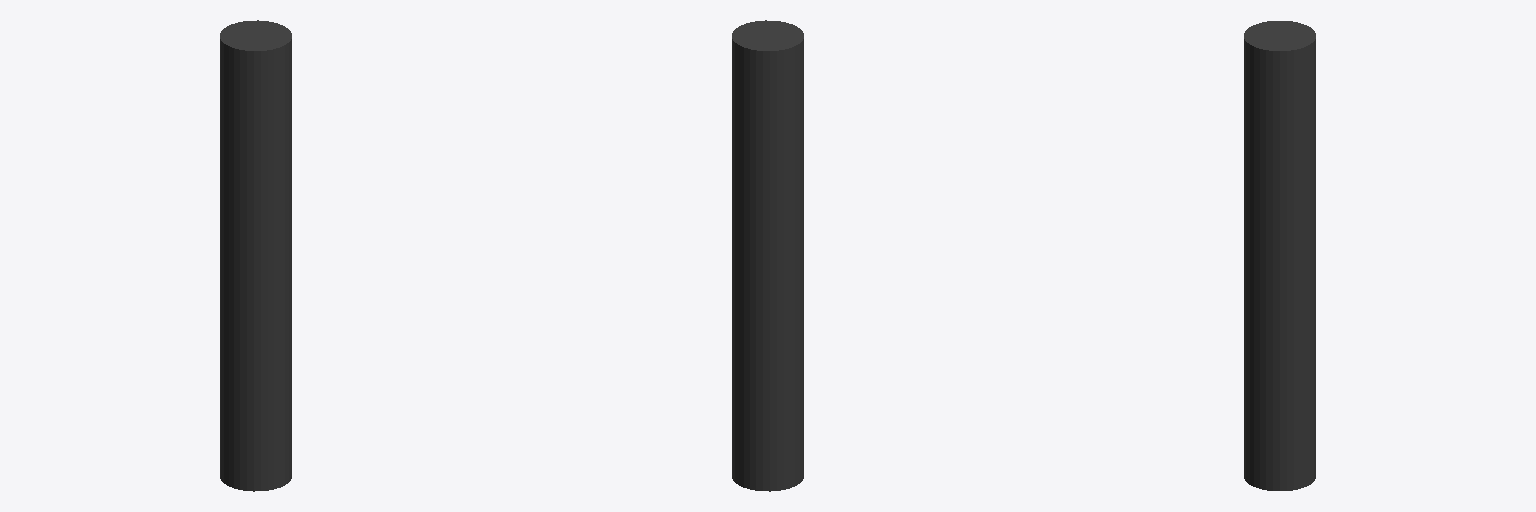
URDF robot description (box):
<?xml version='1.0' encoding='UTF-8'?>
<robot name="box">
  <link name="base_link">
    <inertial>
      <origin xyz="0.0 0.0 0.0" rpy="0.0 -0.0 0.0"/>
      <mass value="1.0"/>
      <inertia ixx="1.0" ixy="0.0" ixz="0.0" iyy="1.0" iyz="0.0" izz="1.0"/>
    </inertial>
    <visual name="base_link_visual">
      <geometry>
        <cylinder radius="0.15" length="2.0"/>
      </geometry>
      <material name="base_link_color">
        <color rgba="0.3 0.3 0.3 1"/>
      </material>
      <origin xyz="0 0 0" rpy="0 0 0"/>
    </visual>
    <collision name="base_link_collision">
      <geometry>
        <cylinder radius="0.15" length="2.0"/>
      </geometry>
      <origin xyz="0 0 0" rpy="0 0 0"/>
    </collision>
  </link>
</robot>

--- Render facts (derived) ---
The picture shows the robot from 3 angles, left to right: view 1: azimuth 30°, elevation 25°; view 2: azimuth 150°, elevation 25°; view 3: azimuth 270°, elevation 25°; orthographic projection.
Model box with 1 links and 0 joints (none), rooted at base_link, posed all joints at 0.
Visible links, largest first — view 1: base_link; view 2: base_link; view 3: base_link.
Boxes of the visible links, box(x1,y1,x2,y2) form: base_link: box(220, 20, 291, 491); base_link: box(732, 20, 803, 491); base_link: box(1244, 21, 1315, 490).
Size in the robot's own frame: 0.3 by 0.3 by 2 metres.
Geometry: primitives only (box / cylinder / sphere), no mesh files.